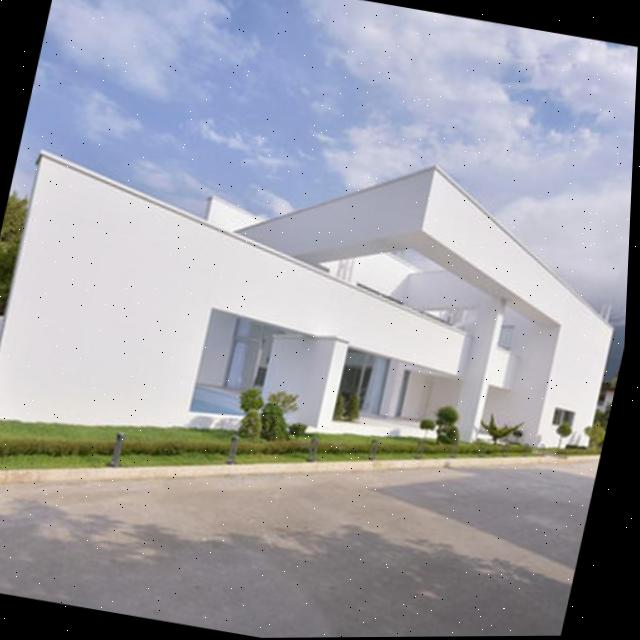building: (0, 96, 636, 523)
